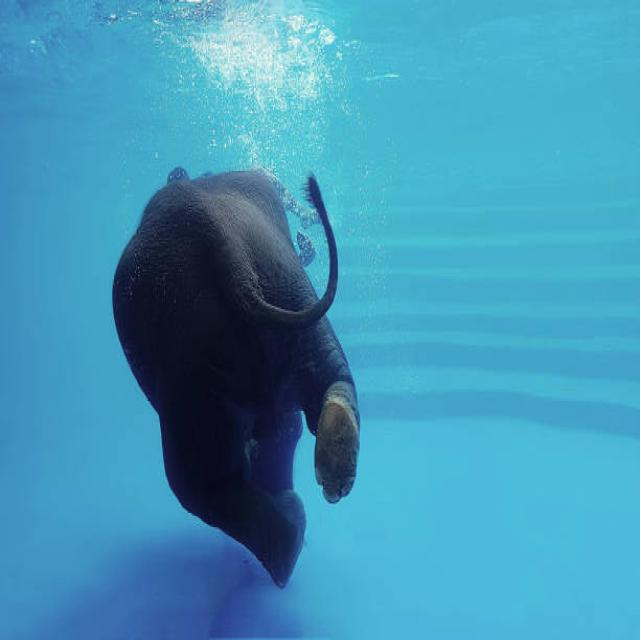Elephant: (110, 152, 386, 593)
